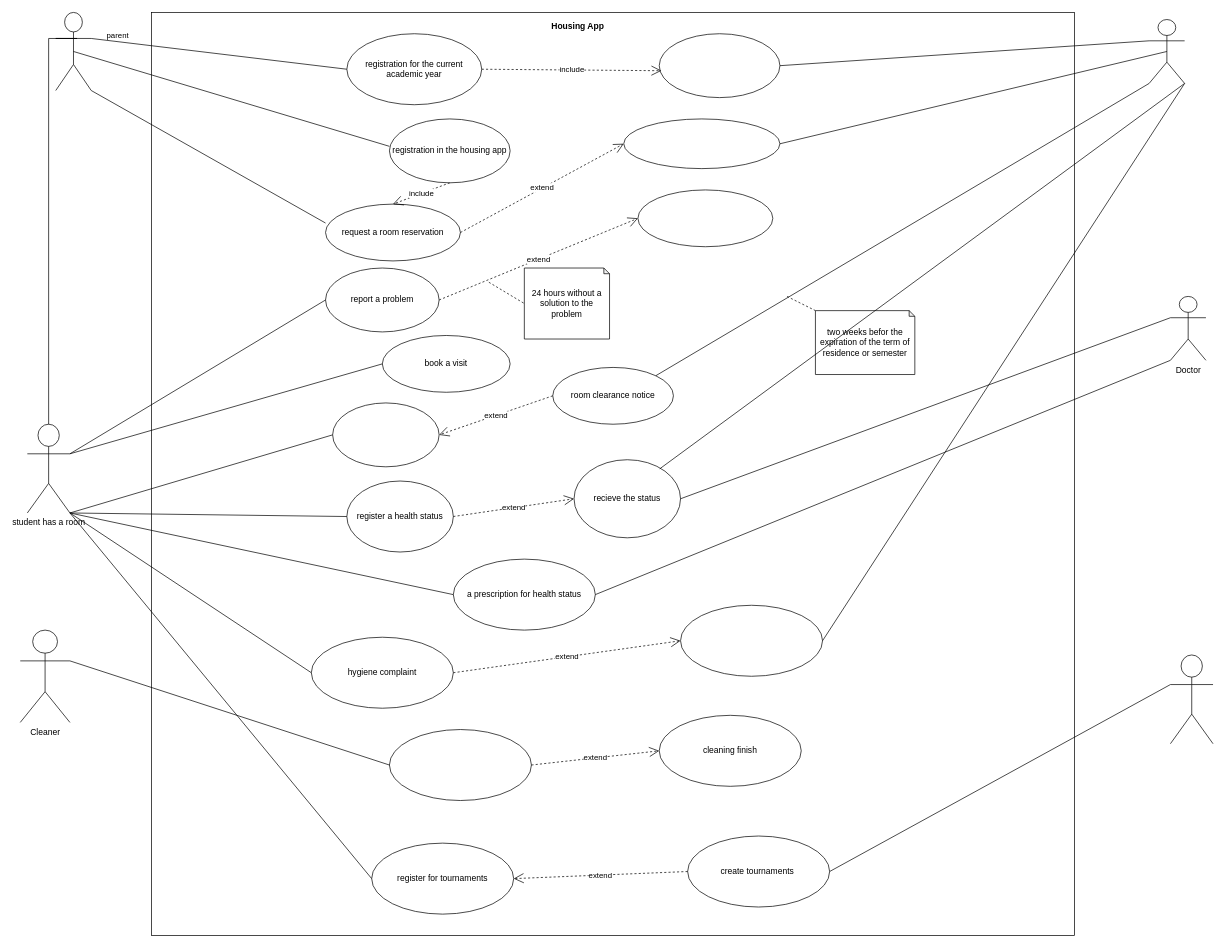
This 1225x948 diagram has some shape labels left out. Each missing label, with the box of its shape:
app administrator: (1148, 19, 1185, 83)
application approval: (659, 33, 780, 98)
book a room delivery appointment: (332, 402, 439, 467)
chek the room request: (623, 118, 780, 169)
Coach: (1170, 654, 1213, 744)
request a room transfer: (637, 189, 773, 247)
room cleaning: (389, 729, 531, 801)
send a notification to the worker: (680, 605, 823, 676)
student: (55, 12, 91, 91)
